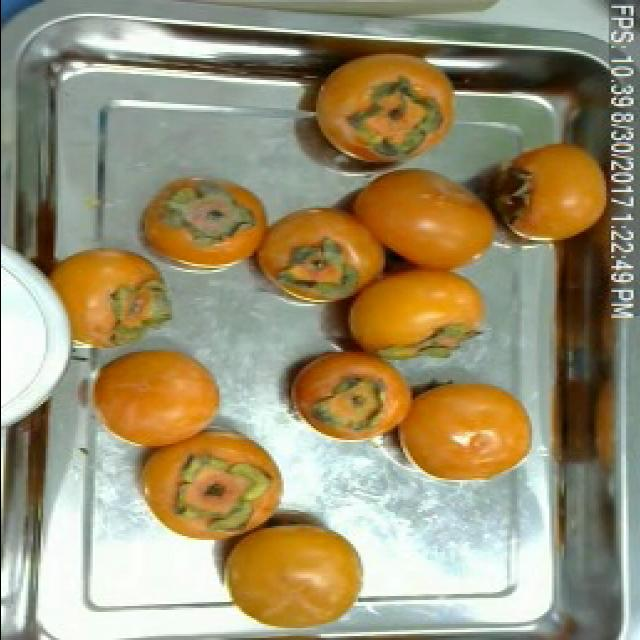Fruit: (273, 48, 477, 170), (198, 506, 374, 632), (130, 420, 298, 552), (457, 124, 620, 258), (68, 338, 236, 466), (384, 368, 544, 494), (121, 166, 278, 278), (40, 236, 186, 354), (273, 338, 412, 448)
